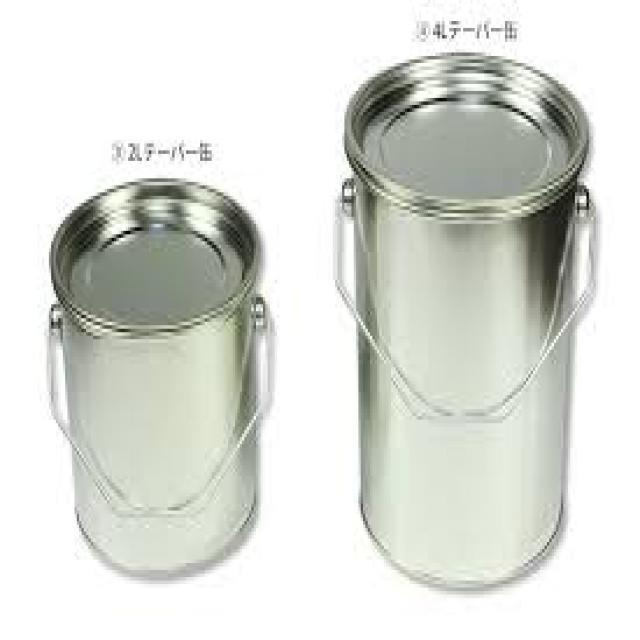recyclable: (334, 51, 600, 593), (46, 176, 276, 582)
